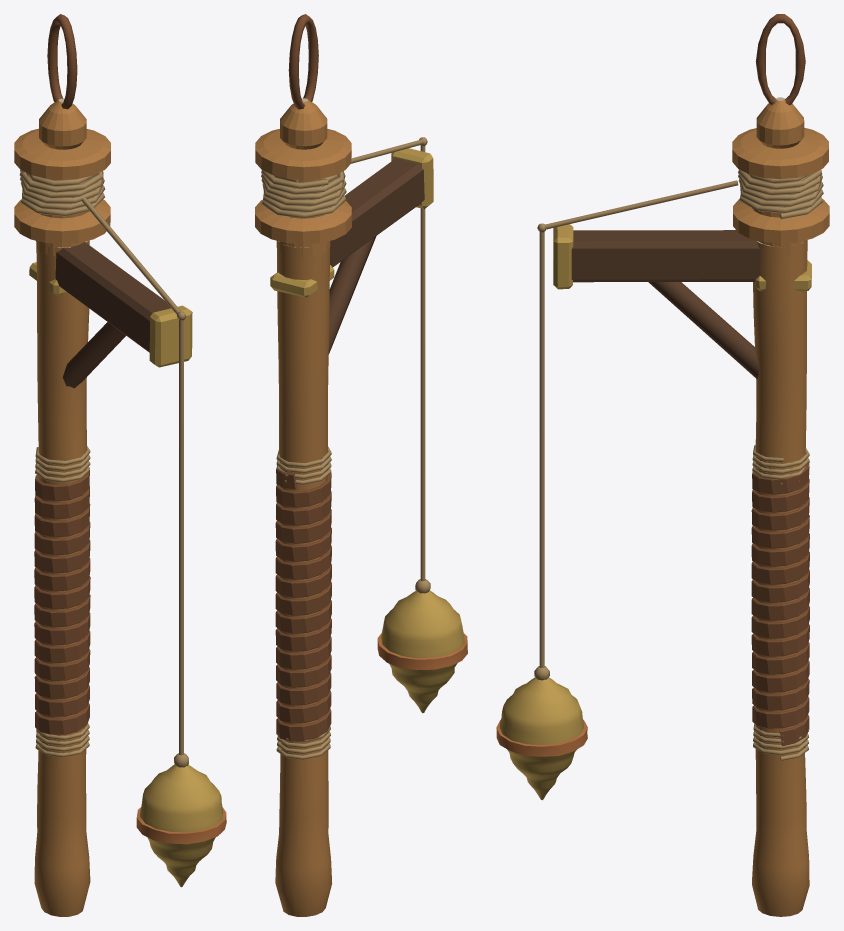
The model's file is tool_plumbline.fbx.
3 views of the same model, side by side, from view 1: azimuth 30°, elevation 25°; view 2: azimuth 150°, elevation 25°; view 3: azimuth 270°, elevation 25° (orthographic).
Parts seen in each view (by area): view 1: Tool_PlumbLine_Handle, Tool_PlumbLine_Grip, Tool_PlumbLine_Arm, Tool_PlumbLine_Bobbin, Tool_PlumbLine_Bob, Tool_PlumbLine_Line, Tool_PlumbLine_Winding, Tool_PlumbLine_Loop; view 2: Tool_PlumbLine_Handle, Tool_PlumbLine_Grip, Tool_PlumbLine_Arm, Tool_PlumbLine_Bobbin, Tool_PlumbLine_Bob, Tool_PlumbLine_Winding, Tool_PlumbLine_Line, Tool_PlumbLine_Loop; view 3: Tool_PlumbLine_Handle, Tool_PlumbLine_Grip, Tool_PlumbLine_Arm, Tool_PlumbLine_Bobbin, Tool_PlumbLine_Bob, Tool_PlumbLine_Line, Tool_PlumbLine_Winding, Tool_PlumbLine_Loop.
Boxes of the visible parts, x1=… form: Tool_PlumbLine_Handle: x1=34, y1=240, x2=90, y2=916; Tool_PlumbLine_Grip: x1=34, y1=446, x2=90, y2=757; Tool_PlumbLine_Arm: x1=29, y1=242, x2=192, y2=388; Tool_PlumbLine_Bobbin: x1=14, y1=98, x2=110, y2=256; Tool_PlumbLine_Bob: x1=136, y1=764, x2=226, y2=887; Tool_PlumbLine_Line: x1=81, y1=197, x2=188, y2=767; Tool_PlumbLine_Winding: x1=19, y1=170, x2=104, y2=216; Tool_PlumbLine_Loop: x1=47, y1=14, x2=77, y2=109; Tool_PlumbLine_Handle: x1=275, y1=241, x2=332, y2=916; Tool_PlumbLine_Grip: x1=275, y1=446, x2=331, y2=759; Tool_PlumbLine_Arm: x1=270, y1=148, x2=433, y2=354; Tool_PlumbLine_Bobbin: x1=255, y1=98, x2=351, y2=256; Tool_PlumbLine_Bob: x1=377, y1=590, x2=467, y2=712; Tool_PlumbLine_Winding: x1=261, y1=170, x2=346, y2=218; Tool_PlumbLine_Line: x1=351, y1=137, x2=430, y2=593; Tool_PlumbLine_Loop: x1=288, y1=14, x2=318, y2=109; Tool_PlumbLine_Handle: x1=752, y1=240, x2=809, y2=916; Tool_PlumbLine_Grip: x1=751, y1=445, x2=809, y2=760; Tool_PlumbLine_Arm: x1=553, y1=224, x2=811, y2=378; Tool_PlumbLine_Bobbin: x1=732, y1=97, x2=829, y2=255; Tool_PlumbLine_Bob: x1=496, y1=677, x2=587, y2=800; Tool_PlumbLine_Line: x1=534, y1=180, x2=738, y2=680; Tool_PlumbLine_Winding: x1=738, y1=169, x2=823, y2=219; Tool_PlumbLine_Loop: x1=755, y1=14, x2=805, y2=105.
Size of the model in its own units: 6.92 by 69.42 by 23.44.
